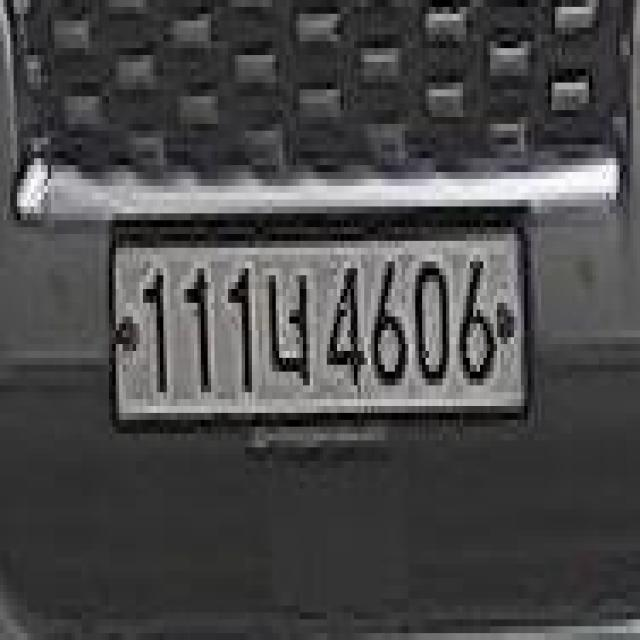illegal_plate: (102, 205, 535, 455)
